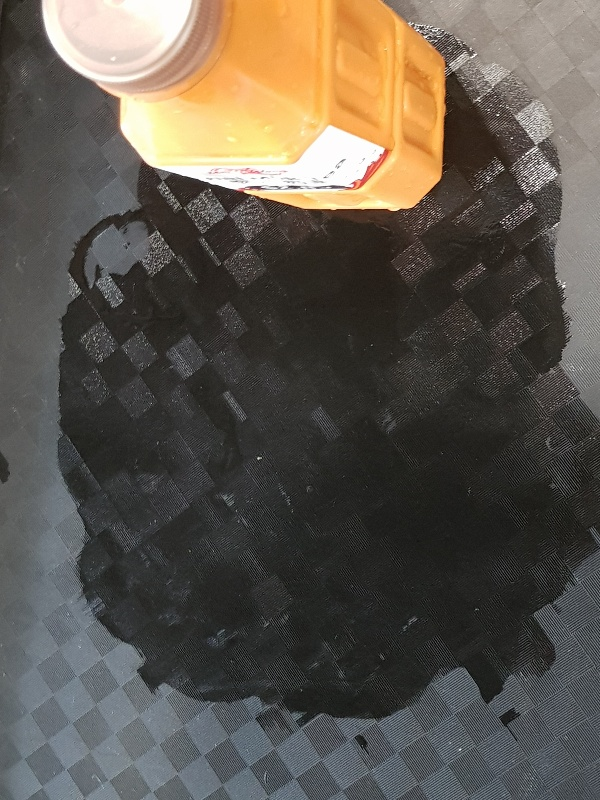Thai Milk Tea: (41, 1, 444, 212)
